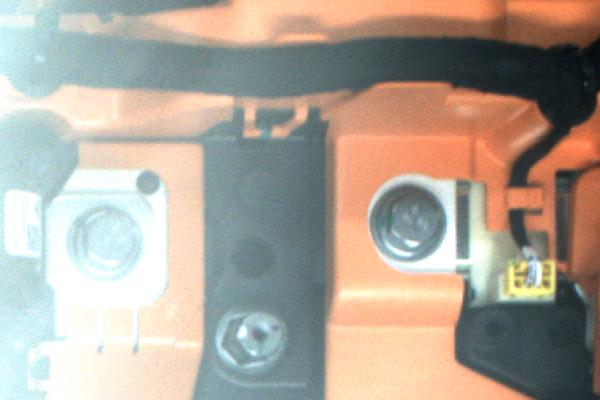nut_b: (360, 178, 454, 268)
